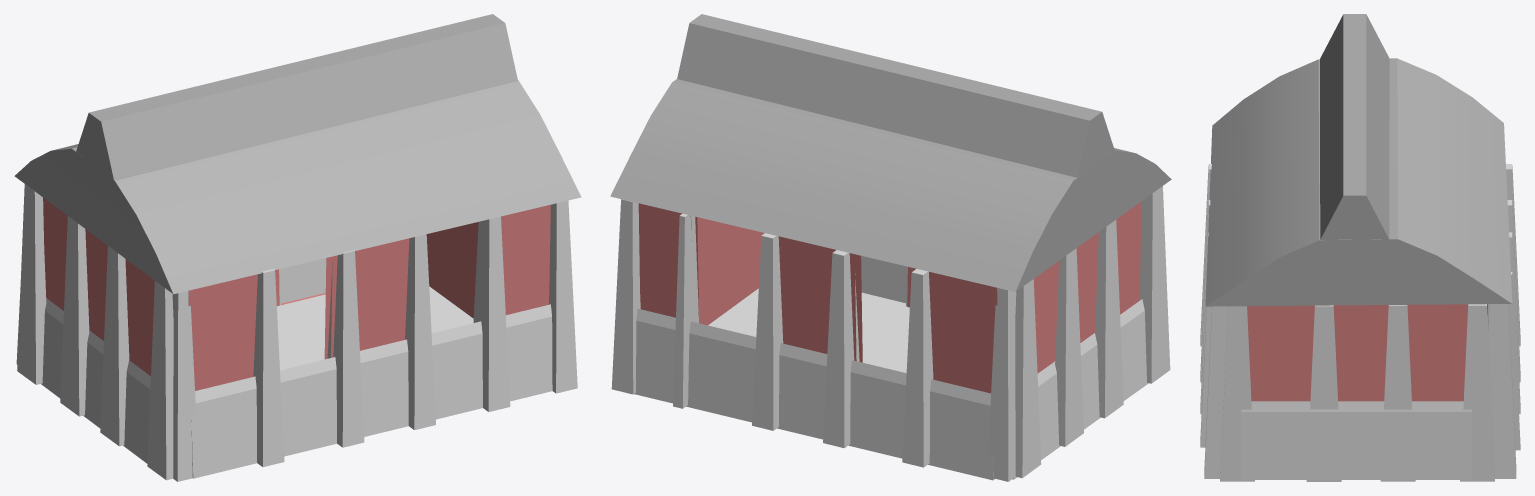
The model's file is Barn_Part.fbx.
3 renders of one model, left to right at view 1: azimuth 30°, elevation 25°; view 2: azimuth 150°, elevation 25°; view 3: azimuth 270°, elevation 25°, orthographic. The views are drawn at different scales.
Parts seen in each view (by area): view 1: pCube97; view 2: pCube97; view 3: pCube97.
Boxes of the visible parts, <box> form: pCube97: <box>14,14,581,481</box>; pCube97: <box>610,14,1171,481</box>; pCube97: <box>1200,14,1520,481</box>.
Bounding box in the file's own units: 1893 × 1372 × 1389.
